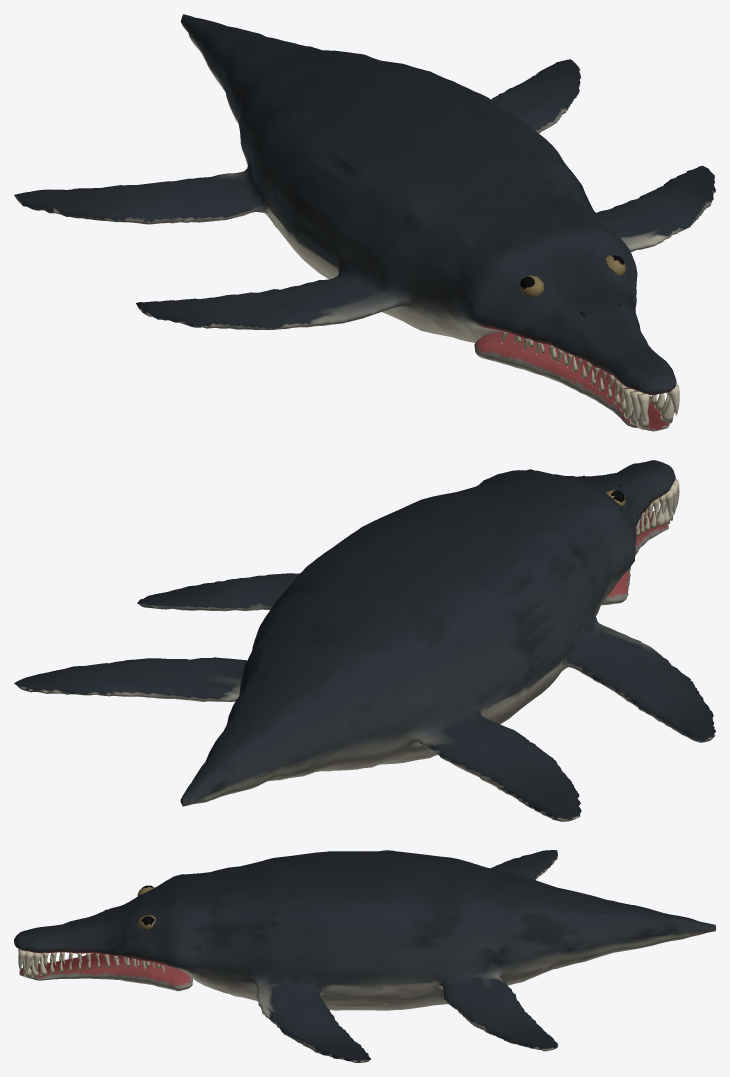
The model's file is Liopleurodon.fbx.
The picture shows the model from 3 angles, top to bottom: view 1: azimuth 30°, elevation 25°; view 2: azimuth 150°, elevation 25°; view 3: azimuth 270°, elevation 25°; orthographic projection. The views are drawn at different scales.
Parts seen in each view (by area): view 1: Liopleurodon; view 2: Liopleurodon; view 3: Liopleurodon.
Boxes of the visible parts, left/top/right/bottom form: Liopleurodon: left=14, top=14, right=715, bottom=431; Liopleurodon: left=14, top=460, right=715, bottom=821; Liopleurodon: left=14, top=850, right=715, bottom=1062.
Bounding box in the file's own units: 1.45 × 0.4357 × 2.13.
